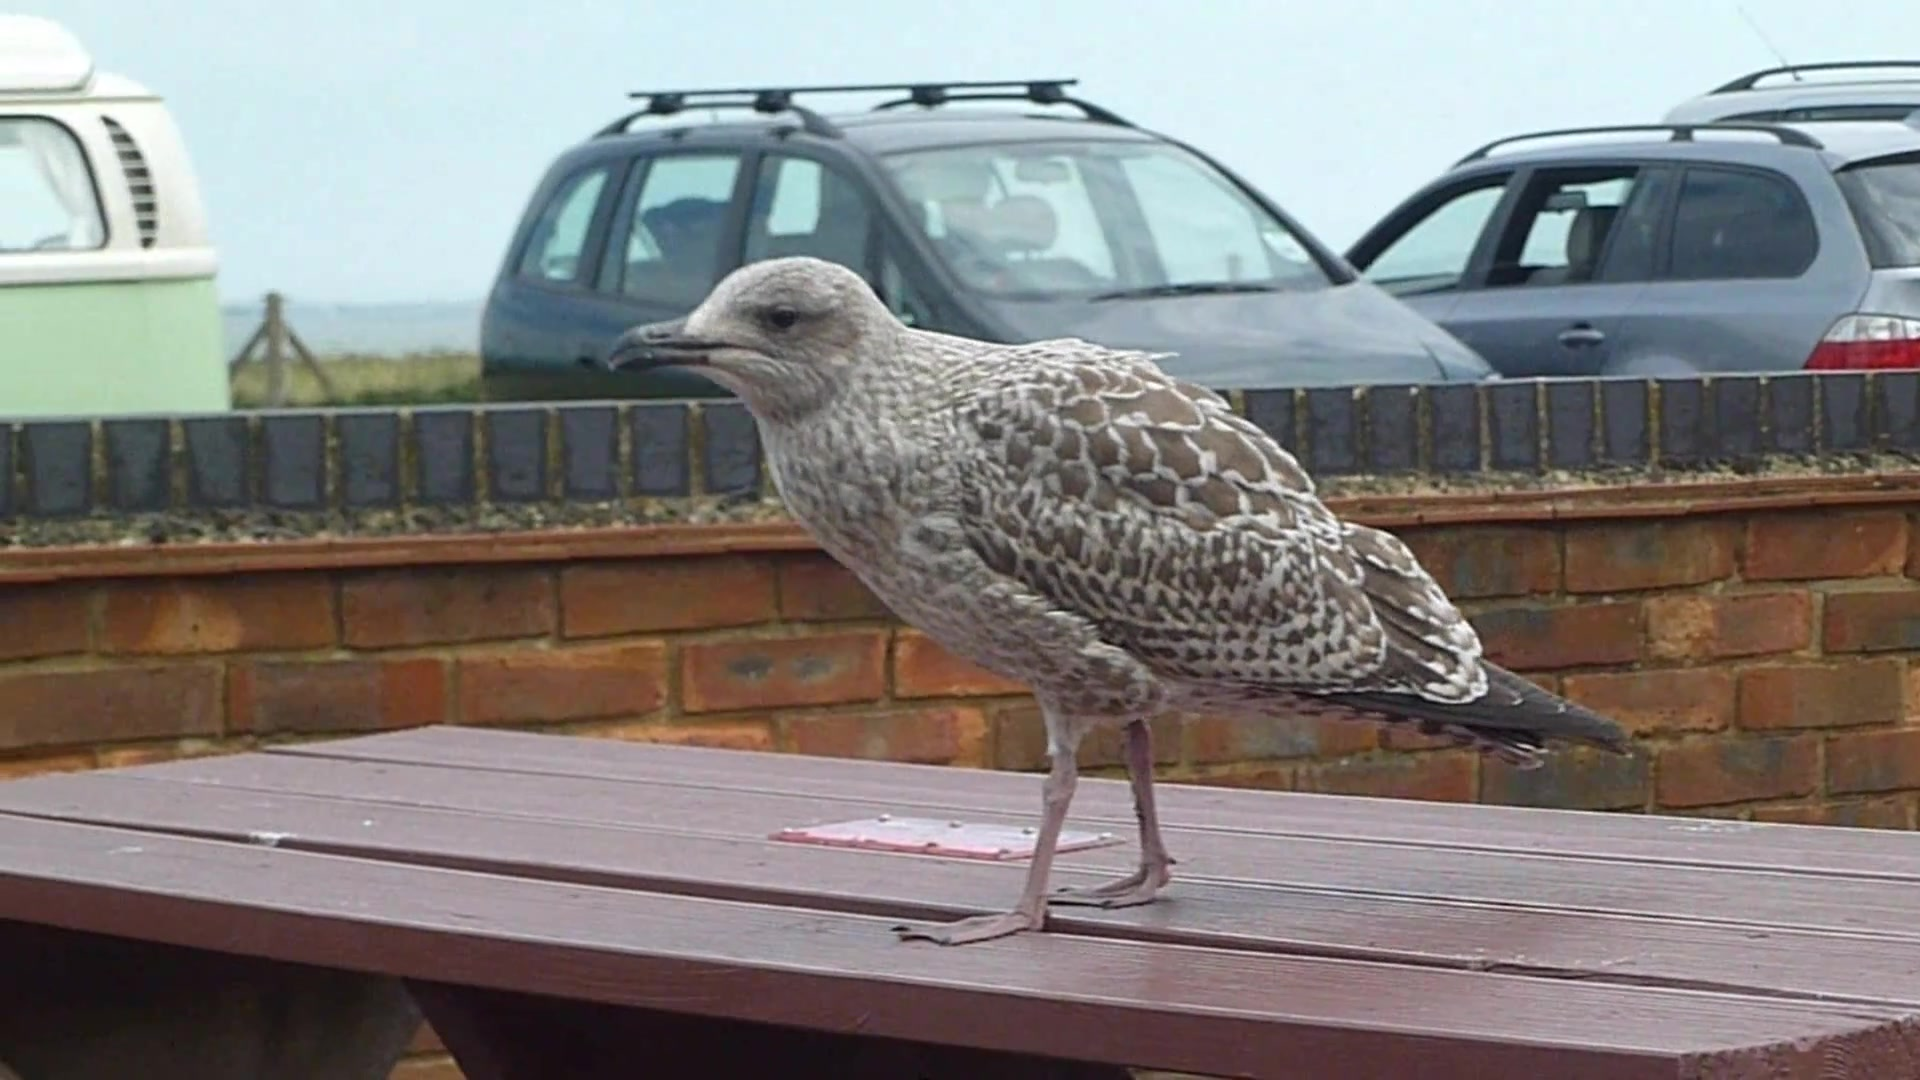bird: (601, 256, 1636, 949)
